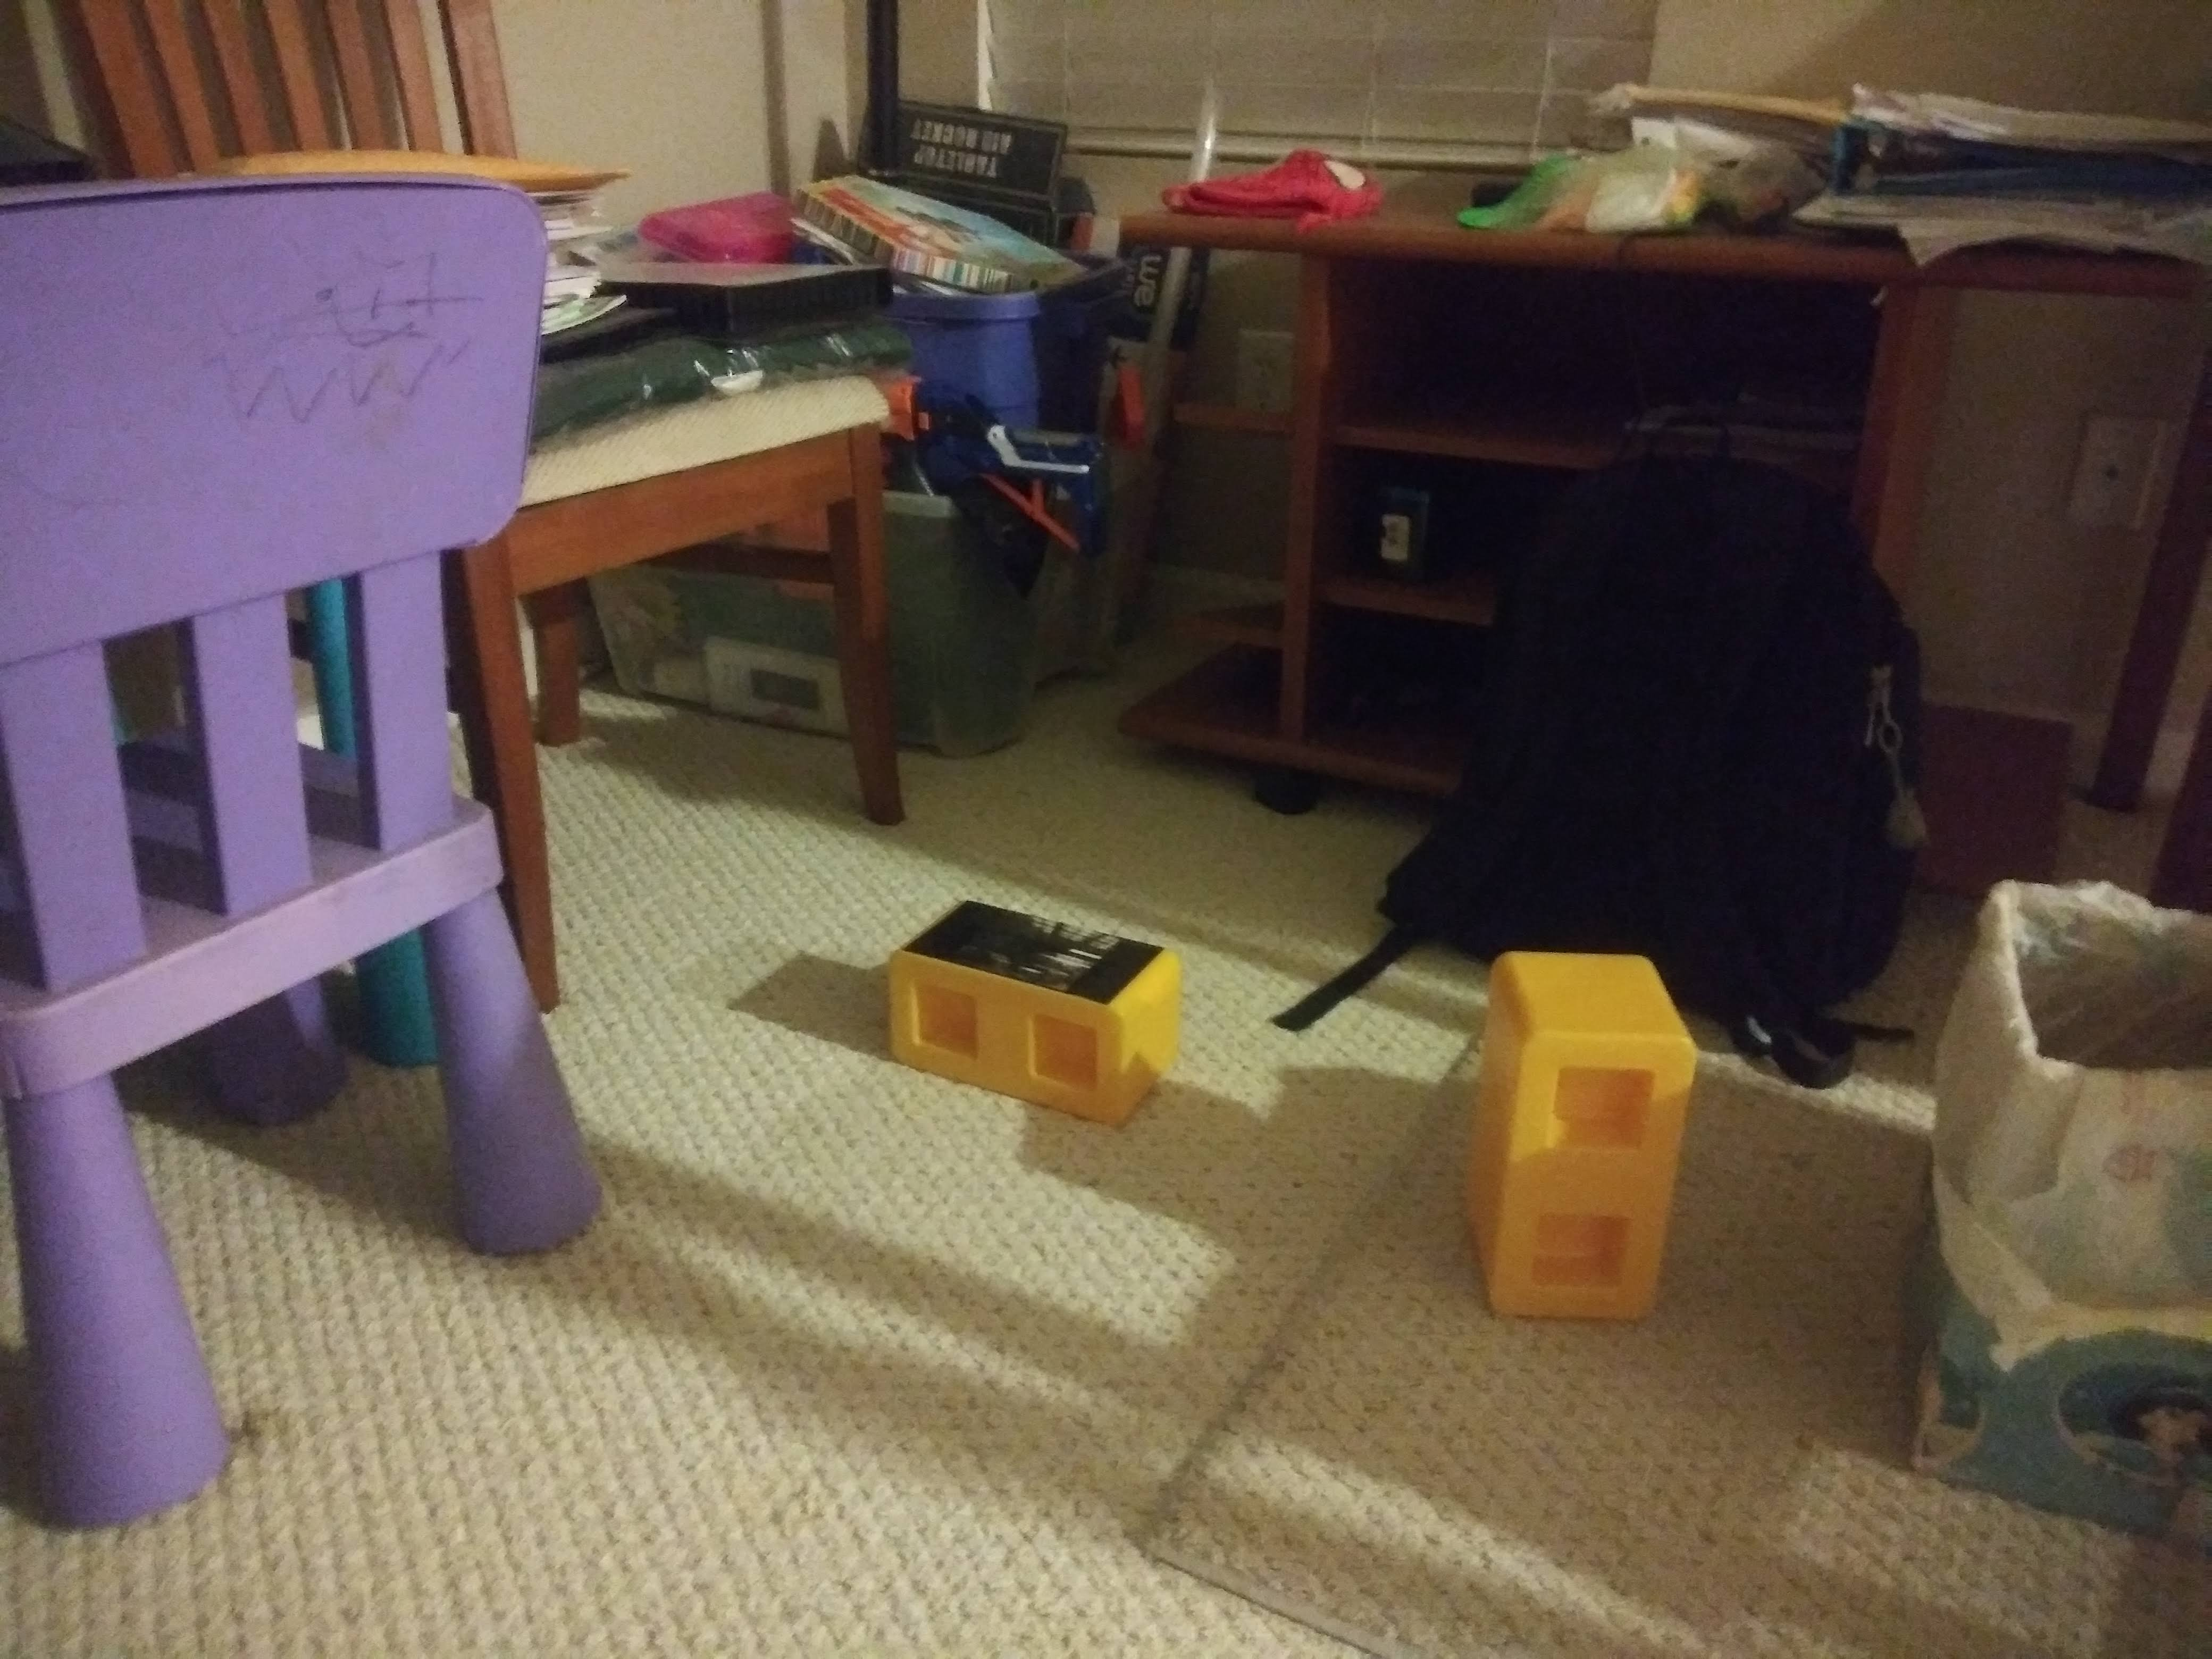skystone: (900, 903, 1167, 1100)
stone: (1494, 958, 1672, 1317)
